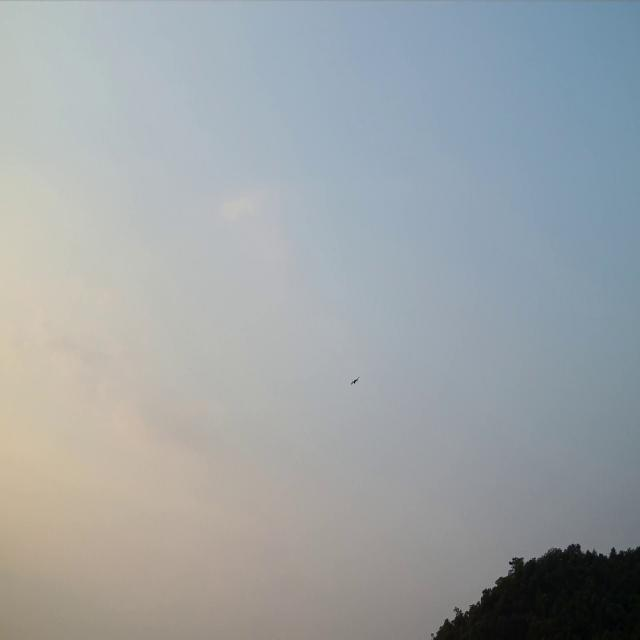UAV: (351, 376, 360, 386)
